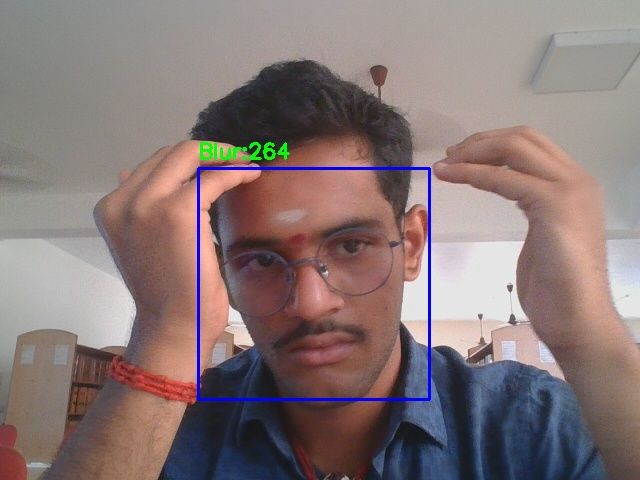real: (198, 168, 429, 399)
